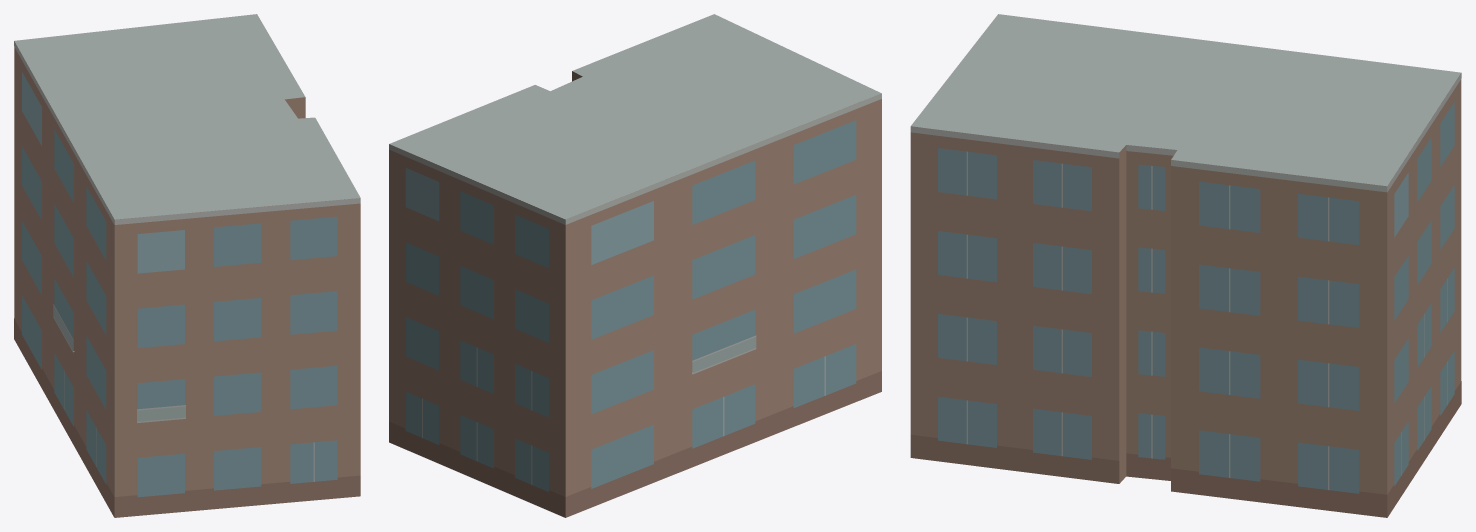
The model's file is survey-upis-32879213.glb.
3 views of the same model, side by side, from view 1: azimuth 30°, elevation 25°; view 2: azimuth 150°, elevation 25°; view 3: azimuth 270°, elevation 25° (orthographic). The views are drawn at different scales.
Visible parts, largest first — view 1: survey-upis-32879213.tmp; view 2: survey-upis-32879213.tmp; view 3: survey-upis-32879213.tmp.
Part boxes in pixels (x1=…): survey-upis-32879213.tmp: x1=14, y1=14, x2=360, y2=517; survey-upis-32879213.tmp: x1=389, y1=14, x2=881, y2=517; survey-upis-32879213.tmp: x1=910, y1=14, x2=1461, y2=517.
Size of the model in its own units: 14.77 by 13.25 by 19.96.
